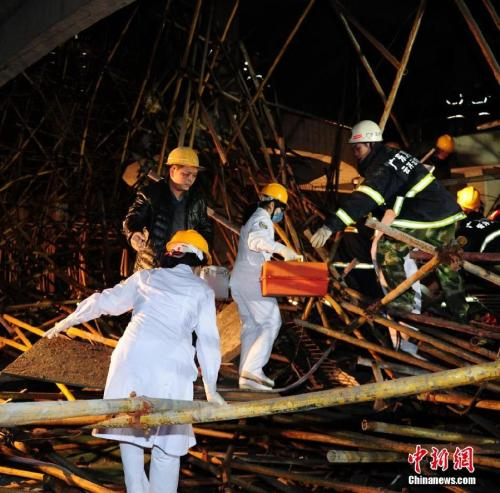boots: (238, 376, 273, 392)
gloves: (44, 312, 81, 340), (309, 224, 333, 249), (281, 246, 304, 262), (205, 391, 227, 407)
hard-hat: (165, 228, 212, 265), (165, 146, 206, 171), (348, 119, 383, 143), (260, 182, 288, 204)
person: (43, 229, 229, 493), (309, 118, 468, 360), (228, 182, 305, 391), (122, 145, 214, 273)
ppe-suit: (228, 206, 290, 387)
vest: (318, 144, 466, 232)
